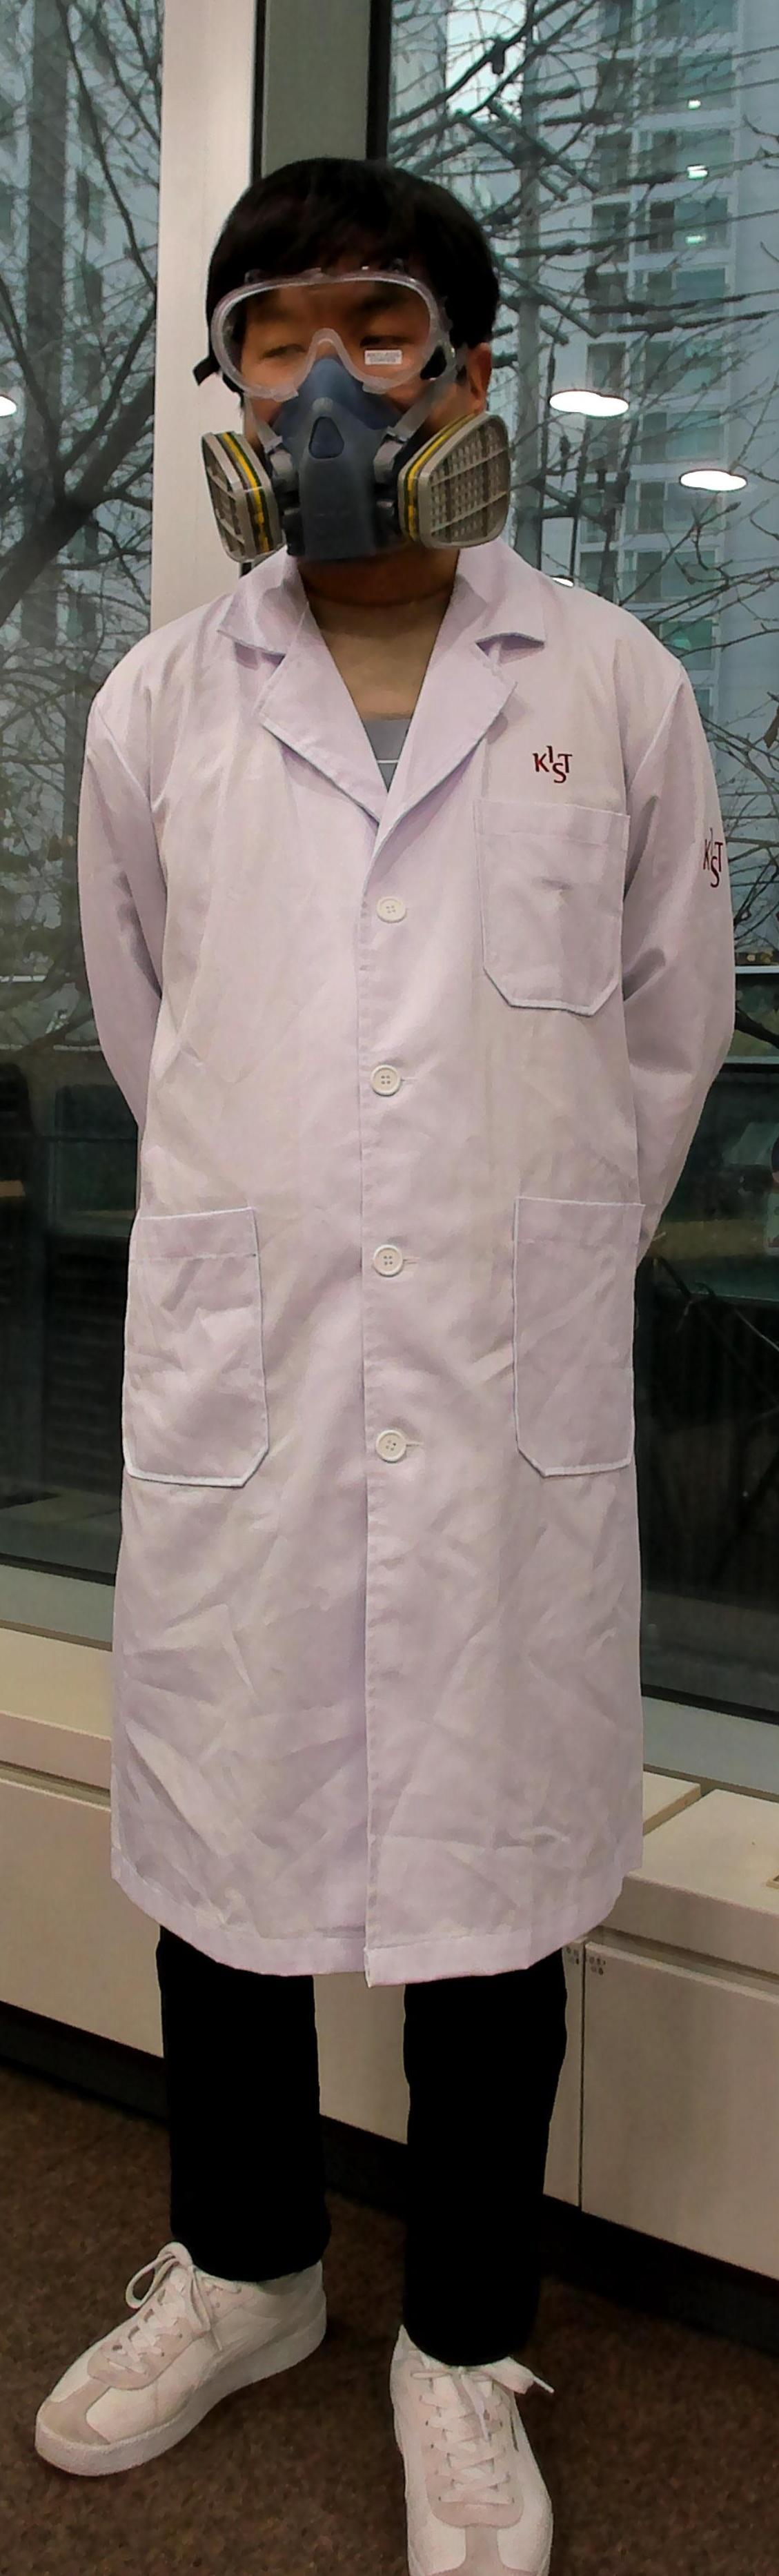lab_coat: (2, 616, 753, 1960)
